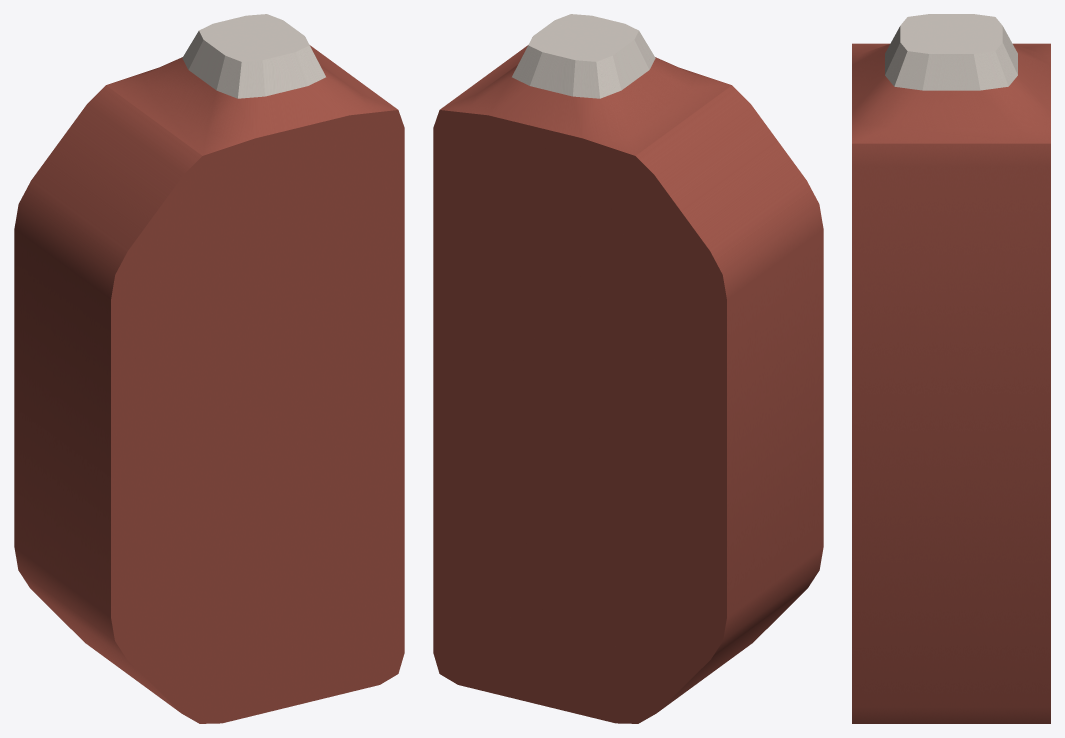
Rendered from SM_Oilbox_03.fbx.
3 views of the same model, side by side, from view 1: azimuth 30°, elevation 25°; view 2: azimuth 150°, elevation 25°; view 3: azimuth 270°, elevation 25° (orthographic). The views are drawn at different scales.
Parts seen in each view (by area): view 1: SM_Oilbox_03; view 2: SM_Oilbox_03; view 3: SM_Oilbox_03.
Boxes of the visible parts, bbox=[...] form: SM_Oilbox_03: bbox=[14, 14, 404, 723]; SM_Oilbox_03: bbox=[433, 14, 823, 723]; SM_Oilbox_03: bbox=[852, 14, 1050, 723].
Bounding box in the file's own units: 20.64 × 42.36 × 11.77.
Materials: 2 (2 with a texture image).
